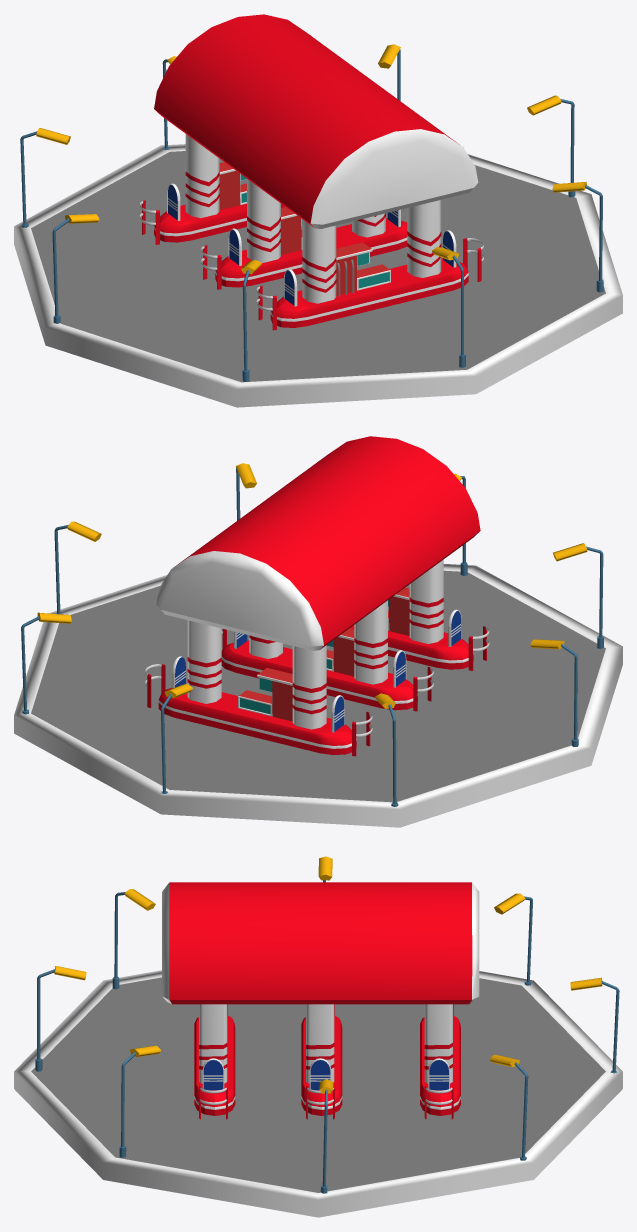
File: SM_Petrol.fbx
3 renders of one model, top to bottom at view 1: azimuth 30°, elevation 25°; view 2: azimuth 150°, elevation 25°; view 3: azimuth 270°, elevation 25°, orthographic. The views are drawn at different scales.
Visible parts, largest first — view 1: SM_Petrol; view 2: SM_Petrol; view 3: SM_Petrol.
Part boxes in pixels (left/top/right/bottom): SM_Petrol: left=14, top=14, right=622, bottom=407; SM_Petrol: left=14, top=436, right=622, bottom=827; SM_Petrol: left=14, top=856, right=622, bottom=1217.
Bounding box in the file's own units: 1838 × 656 × 1838.
